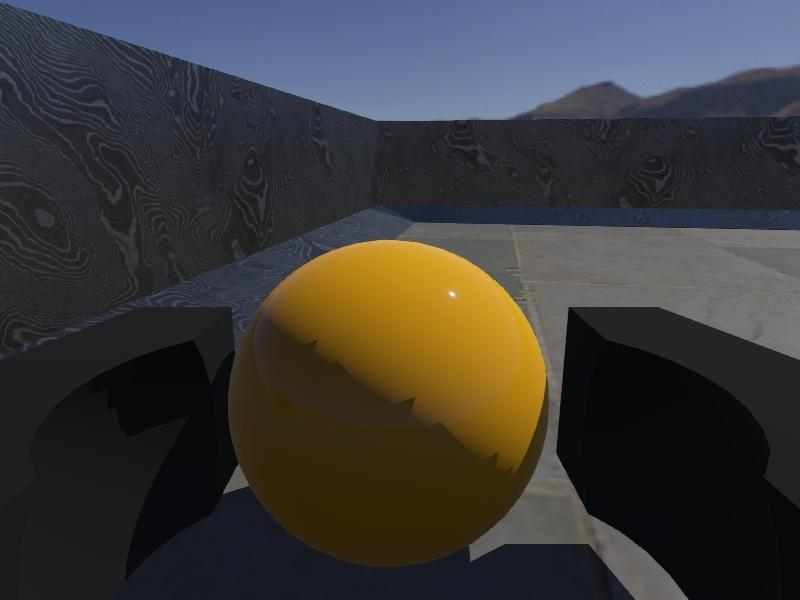orange ball: (227, 238, 551, 570)
